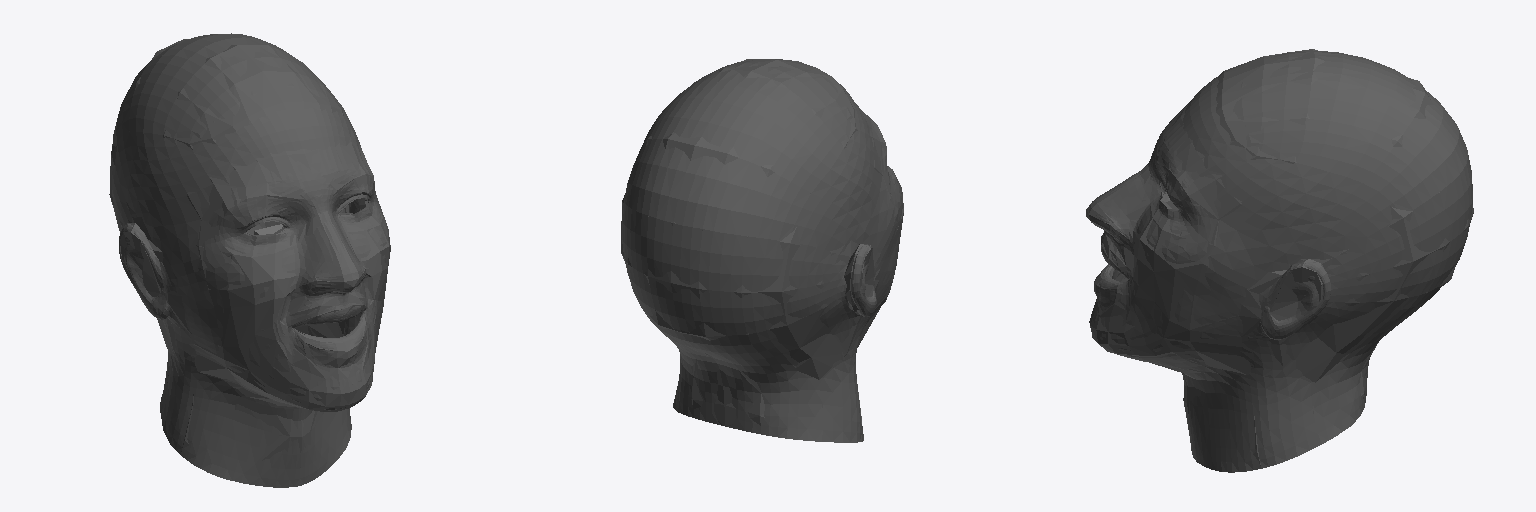
The model's file is my_happy.obj.
3 renders of one model, left to right at view 1: azimuth 30°, elevation 25°; view 2: azimuth 150°, elevation 25°; view 3: azimuth 270°, elevation 25°, orthographic.
Parts seen in each view (by area): view 1: skin_hi.002, skin_lo.002; view 2: skin_hi.002, skin_lo.002; view 3: skin_hi.002, skin_lo.002.
Boxes of the visible parts, box(x1,y1,x2,y2) form: skin_hi.002: box(112, 33, 389, 487); skin_lo.002: box(109, 39, 390, 467); skin_hi.002: box(622, 60, 902, 442); skin_lo.002: box(621, 59, 903, 426); skin_hi.002: box(1093, 51, 1472, 472); skin_lo.002: box(1086, 49, 1473, 465).
Bounding box in the file's own units: 15.2 × 24.88 × 22.09.